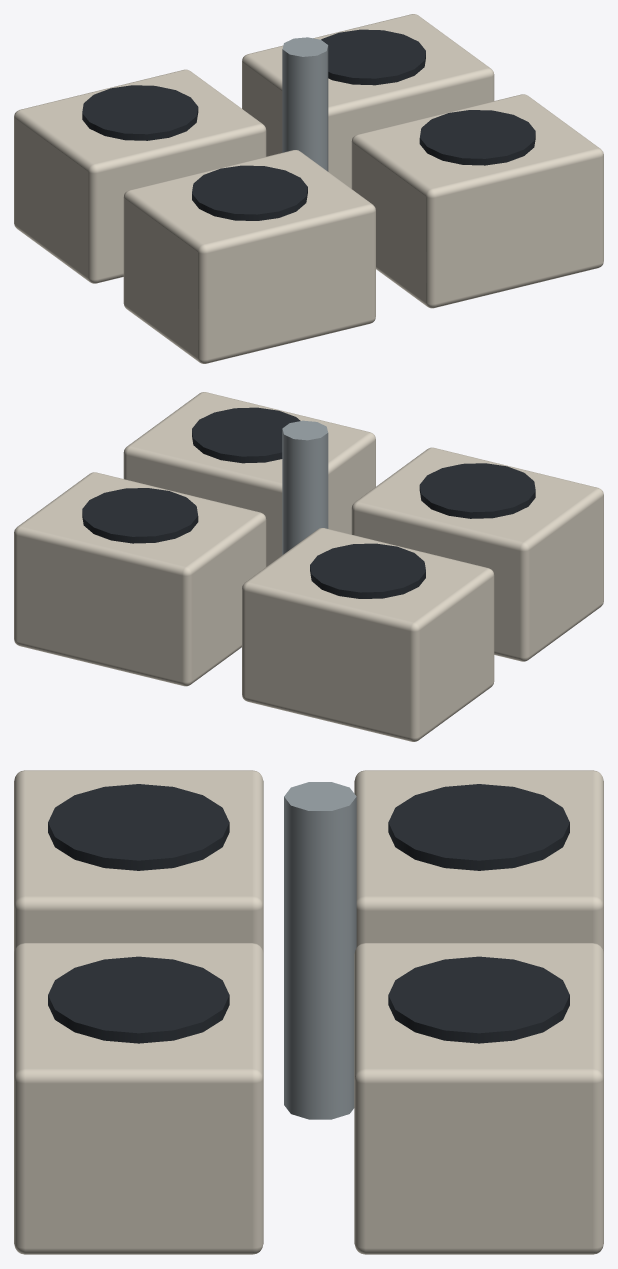
The model's file is roof-clutter-a.glb.
3 renders of one model, top to bottom at view 1: azimuth 30°, elevation 25°; view 2: azimuth 150°, elevation 25°; view 3: azimuth 270°, elevation 25°, orthographic. The views are drawn at different scales.
Visible parts, largest first — view 1: roof paint, roof dark, roof steel; view 2: roof paint, roof dark, roof steel; view 3: roof paint, roof dark, roof steel.
Boxes of the visible parts, x1=… form: roof paint: x1=14, y1=14, x2=603, y2=363; roof dark: x1=82, y1=29, x2=535, y2=220; roof steel: x1=282, y1=37, x2=328, y2=171; roof paint: x1=14, y1=392, x2=603, y2=741; roof dark: x1=82, y1=407, x2=535, y2=598; roof steel: x1=282, y1=420, x2=328, y2=554; roof paint: x1=14, y1=770, x2=603, y2=1254; roof dark: x1=48, y1=784, x2=569, y2=1043; roof steel: x1=284, y1=782, x2=356, y2=1119.
Size of the model in its own units: 3.2 by 1.5 by 2.6.
